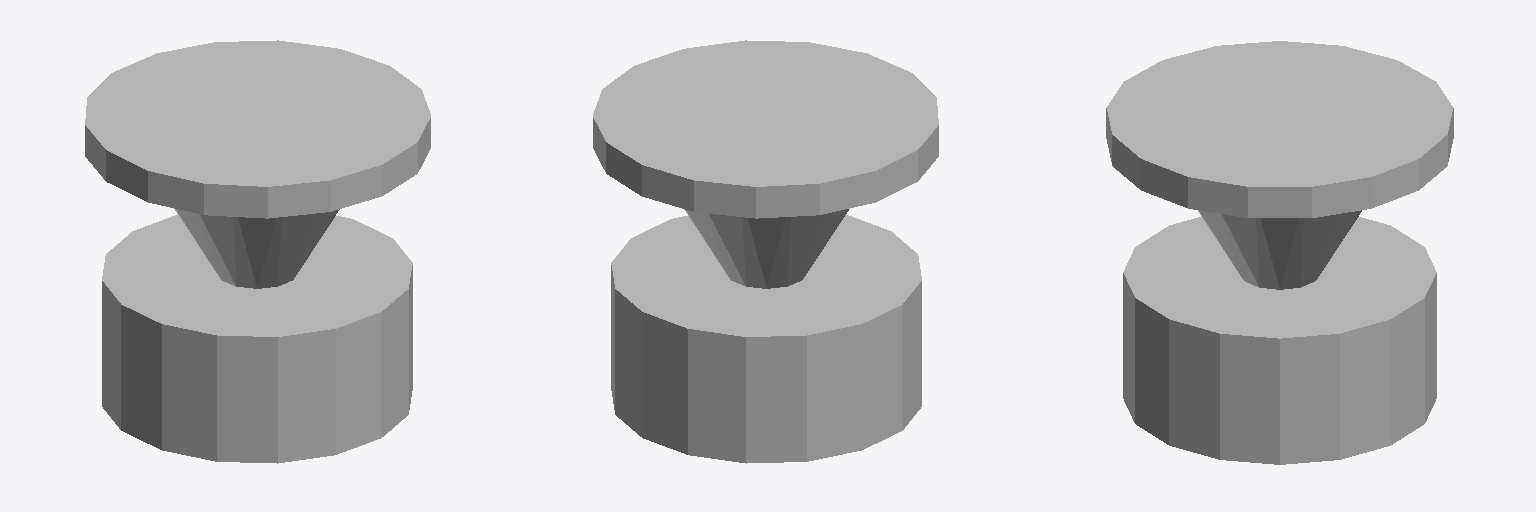
The model's file is Joystick-Left-Stick.obj.
3 renders of one model, left to right at view 1: azimuth 30°, elevation 25°; view 2: azimuth 150°, elevation 25°; view 3: azimuth 270°, elevation 25°, orthographic.
Visible parts, largest first — view 1: Joystick-Left-Stick; view 2: Joystick-Left-Stick; view 3: Joystick-Left-Stick.
Boxes of the visible parts, x1=… form: Joystick-Left-Stick: x1=85, y1=40, x2=430, y2=463; Joystick-Left-Stick: x1=593, y1=40, x2=938, y2=463; Joystick-Left-Stick: x1=1106, y1=41, x2=1453, y2=464.
Size of the model in its own units: 9.91 by 9 by 9.96.